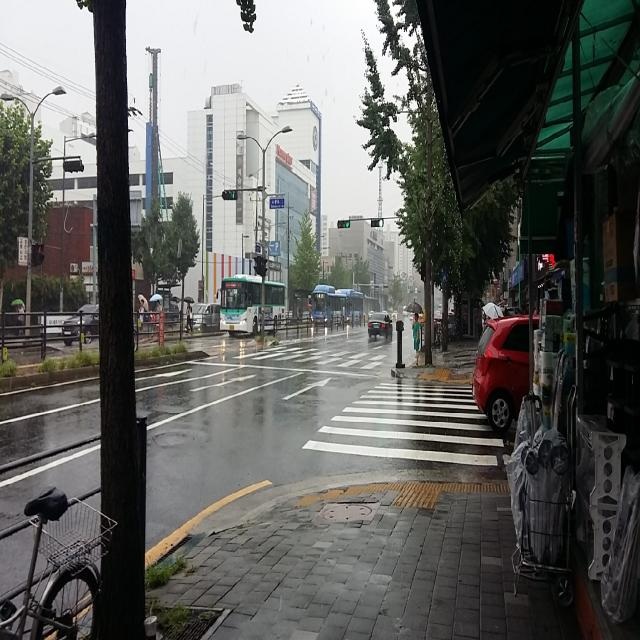횡단보도: (301, 380, 505, 468), (227, 337, 392, 373)
